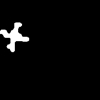single_crochet: (0, 23, 28, 51)
